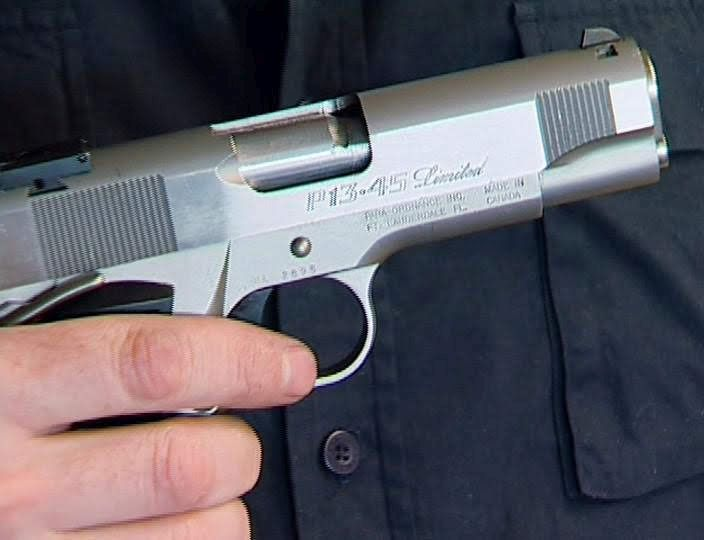gun: (25, 32, 674, 436)
